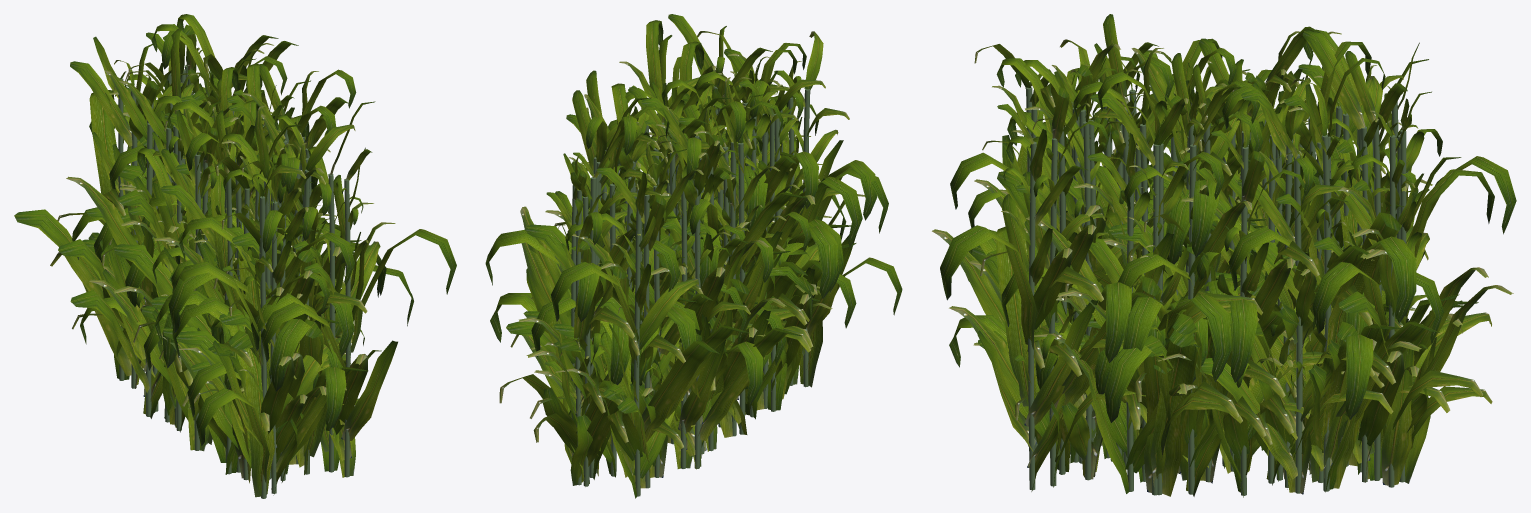
The model's file is milharal3x9_denso6.fbx.
3 renders of one model, left to right at view 1: azimuth 30°, elevation 25°; view 2: azimuth 150°, elevation 25°; view 3: azimuth 270°, elevation 25°, orthographic. The views are drawn at different scales.
Visible parts, largest first — view 1: Plantacao2; view 2: Plantacao2; view 3: Plantacao2.
Part boxes in pixels (bbox=[...]): Plantacao2: bbox=[14, 14, 456, 498]; Plantacao2: bbox=[485, 14, 902, 498]; Plantacao2: bbox=[932, 14, 1516, 497].
Bounding box in the file's own units: 872 × 1095 × 1338.
